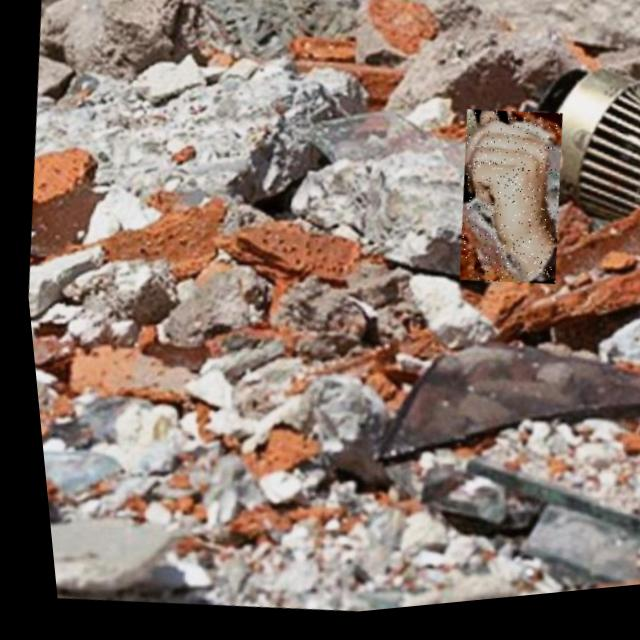Person in Rubble: (441, 111, 572, 302)
